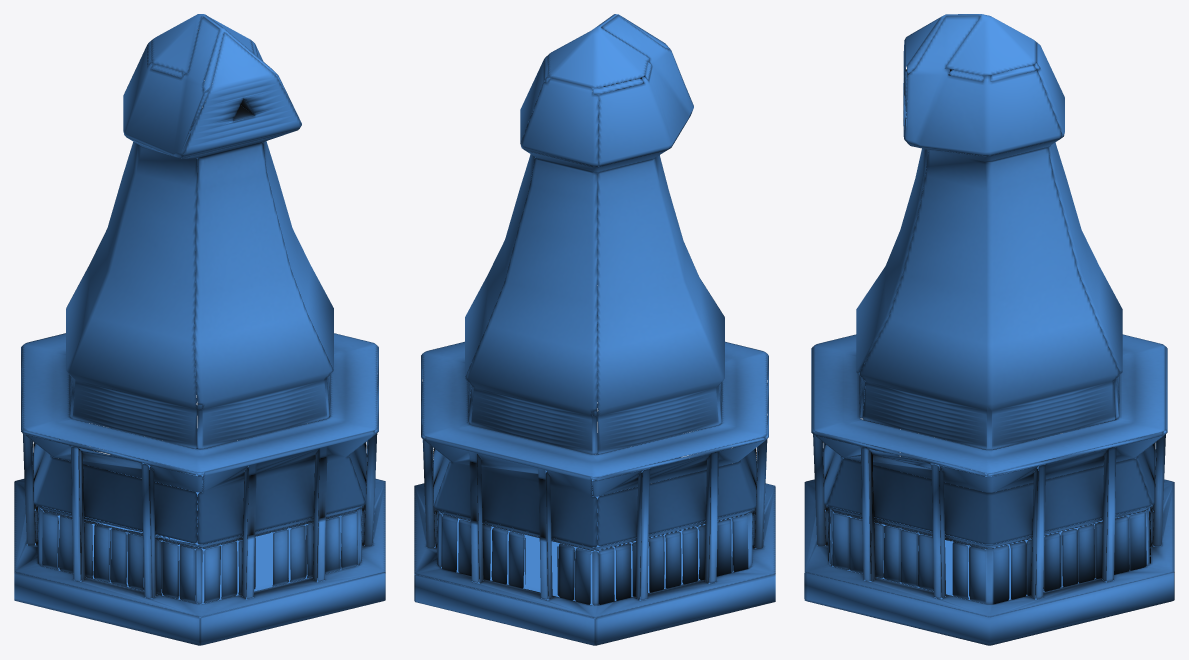
The model's file is windmillbase.obj.
The picture shows the model from 3 angles, left to right: view 1: azimuth 30°, elevation 25°; view 2: azimuth 150°, elevation 25°; view 3: azimuth 270°, elevation 25°; orthographic projection. The views are drawn at different scales.
Parts seen in each view (by area): view 1: W; view 2: W; view 3: W.
Boxes of the visible parts, <box> form: W: <box>14,14,385,645</box>; W: <box>414,14,775,645</box>; W: <box>804,14,1174,645</box>.
Bounding box in the file's own units: 66.06 × 92.24 × 57.2.
